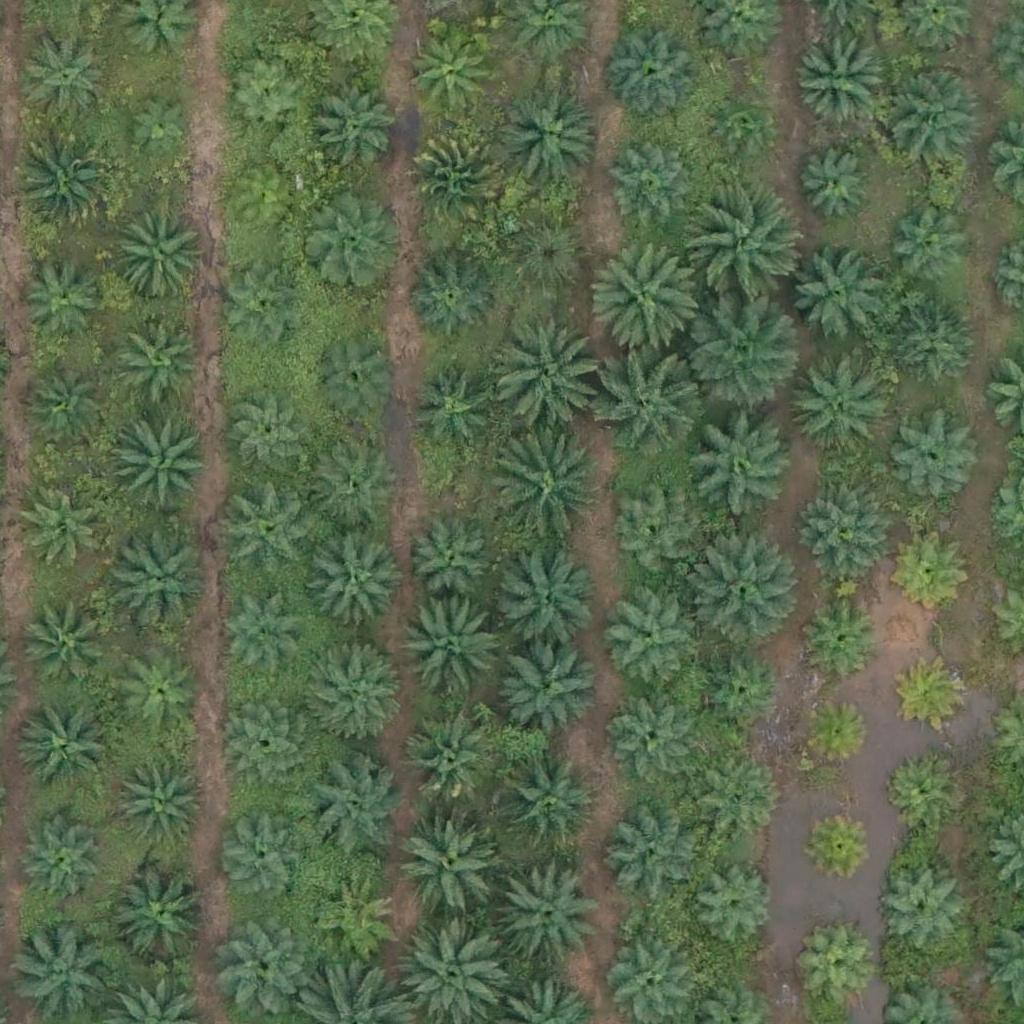Kelapa_Sawit: (489, 321, 602, 435), (684, 298, 797, 411), (685, 408, 798, 521), (686, 531, 799, 644), (595, 344, 708, 457), (591, 240, 704, 353), (485, 435, 598, 548), (691, 188, 803, 302), (498, 859, 598, 960), (878, 64, 978, 165), (787, 352, 887, 453), (605, 24, 705, 125), (497, 81, 597, 182), (494, 551, 594, 652), (499, 634, 599, 735), (399, 807, 499, 908), (498, 751, 598, 852), (605, 803, 705, 904), (401, 599, 501, 700), (305, 636, 405, 737), (110, 527, 210, 628), (12, 693, 112, 794), (17, 131, 117, 232), (110, 866, 210, 966), (17, 919, 117, 1019), (792, 31, 892, 131), (786, 247, 886, 347), (301, 193, 401, 293), (410, 128, 510, 228), (306, 754, 406, 854), (222, 482, 322, 582), (111, 201, 211, 301), (111, 410, 211, 510), (19, 595, 119, 695), (214, 810, 302, 899), (874, 866, 962, 954), (696, 646, 784, 734), (696, 764, 784, 852), (887, 197, 975, 285), (499, 214, 587, 302), (311, 330, 399, 418), (404, 360, 492, 448), (606, 602, 694, 690), (607, 694, 695, 782), (608, 145, 696, 233), (404, 30, 492, 118), (409, 253, 497, 341), (409, 510, 497, 598), (225, 392, 313, 480), (217, 595, 305, 683), (221, 699, 309, 787), (15, 257, 103, 345), (123, 762, 211, 850), (14, 817, 102, 905), (20, 481, 108, 569), (222, 51, 310, 139), (692, 862, 779, 950), (221, 915, 308, 1003), (890, 302, 977, 390), (800, 482, 887, 570), (887, 413, 974, 501), (612, 491, 699, 579), (404, 716, 491, 804), (304, 81, 391, 169), (310, 439, 397, 527), (218, 263, 305, 351), (313, 540, 400, 628), (120, 311, 207, 399), (117, 649, 204, 737), (26, 360, 113, 448), (26, 28, 113, 116), (214, 164, 301, 252), (312, 876, 399, 964), (797, 147, 872, 223), (881, 752, 956, 828), (798, 932, 873, 1008), (803, 805, 878, 881), (896, 656, 971, 732), (123, 88, 198, 163), (806, 598, 881, 673), (798, 695, 873, 770), (896, 534, 971, 609), (708, 91, 770, 154)
